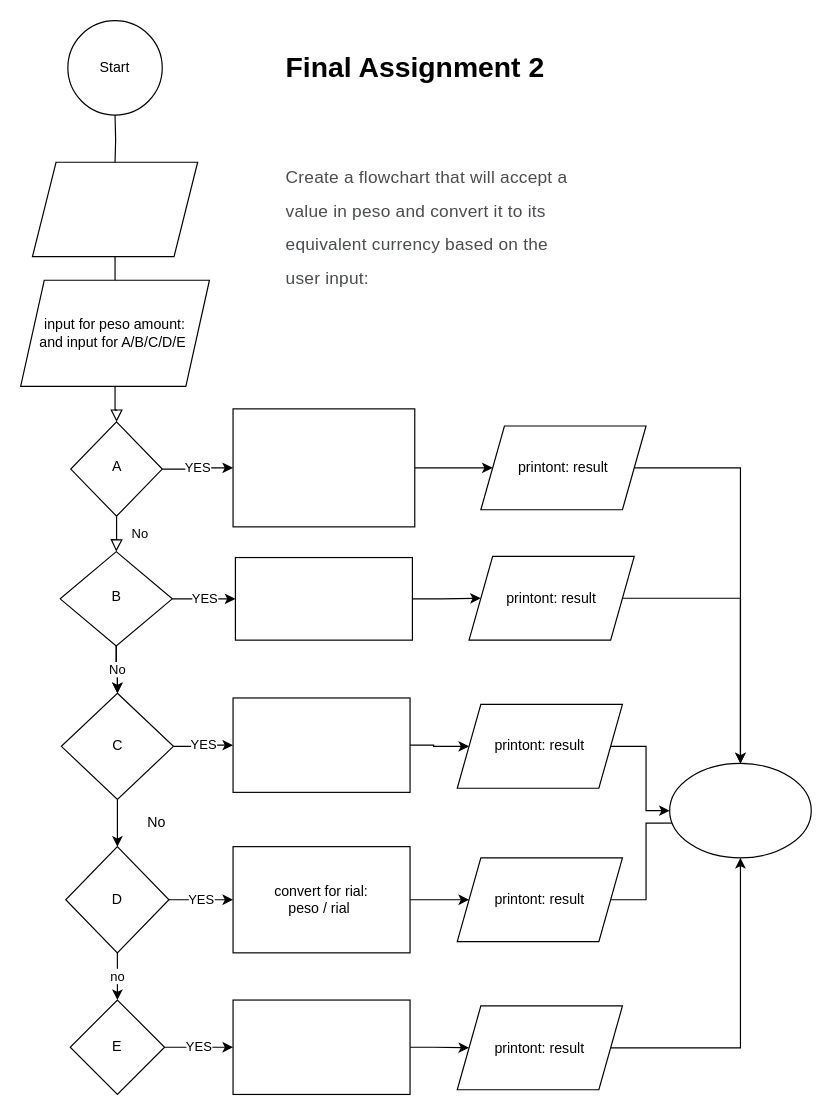
This 832x1115 diagram has some shape labels left out. The box of each missing label's shape, as (x1, y1, x2, y2) in pixels:
convert for Euro: peso / Euro: (232, 999, 410, 1094)
convert for pound: peso / pound: (232, 697, 410, 792)
convert for US Dollars: peso / usdollers: (232, 408, 415, 527)
convert for yen: peso / yen: (234, 556, 412, 640)
END: (668, 762, 811, 858)
output for the list of choices: (31, 161, 198, 257)
